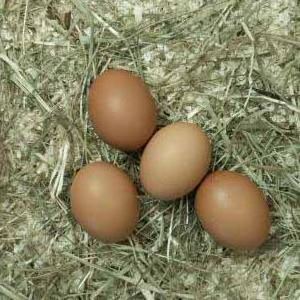egg: (195, 170, 271, 251), (138, 121, 213, 202), (88, 69, 158, 151), (70, 162, 139, 243)
